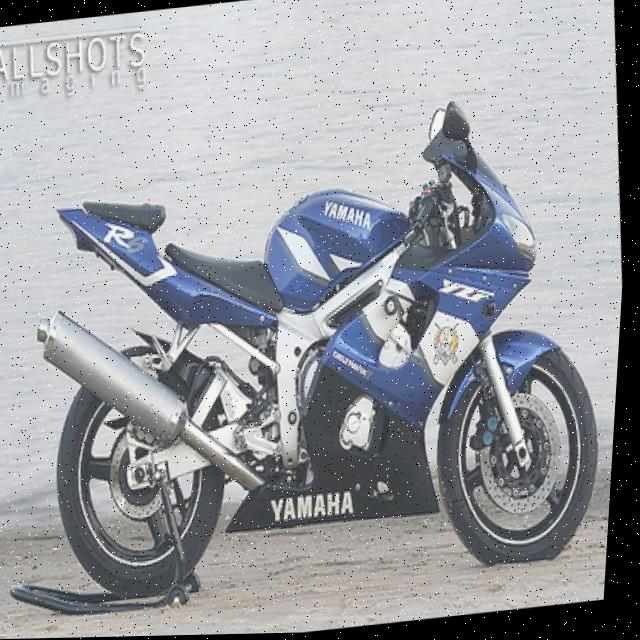motorcycle: (4, 72, 634, 629)
plate: (261, 484, 362, 528)
